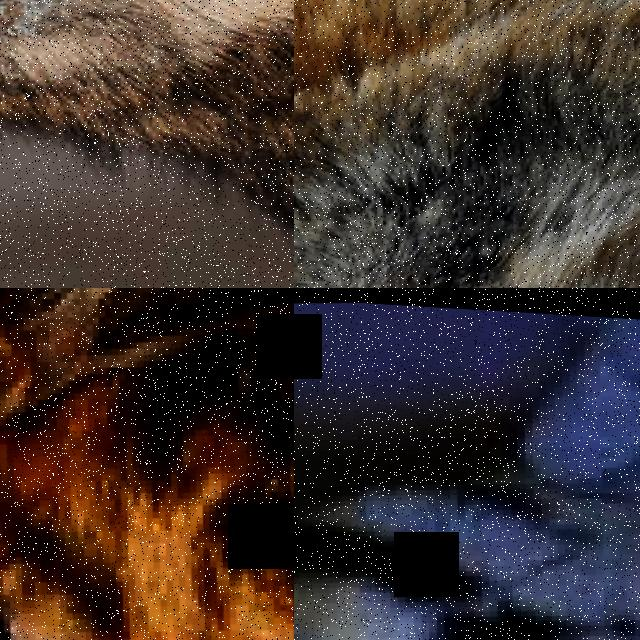dog: (294, 288, 640, 640), (0, 288, 294, 640)
wolf: (294, 0, 640, 288), (0, 0, 294, 288)
